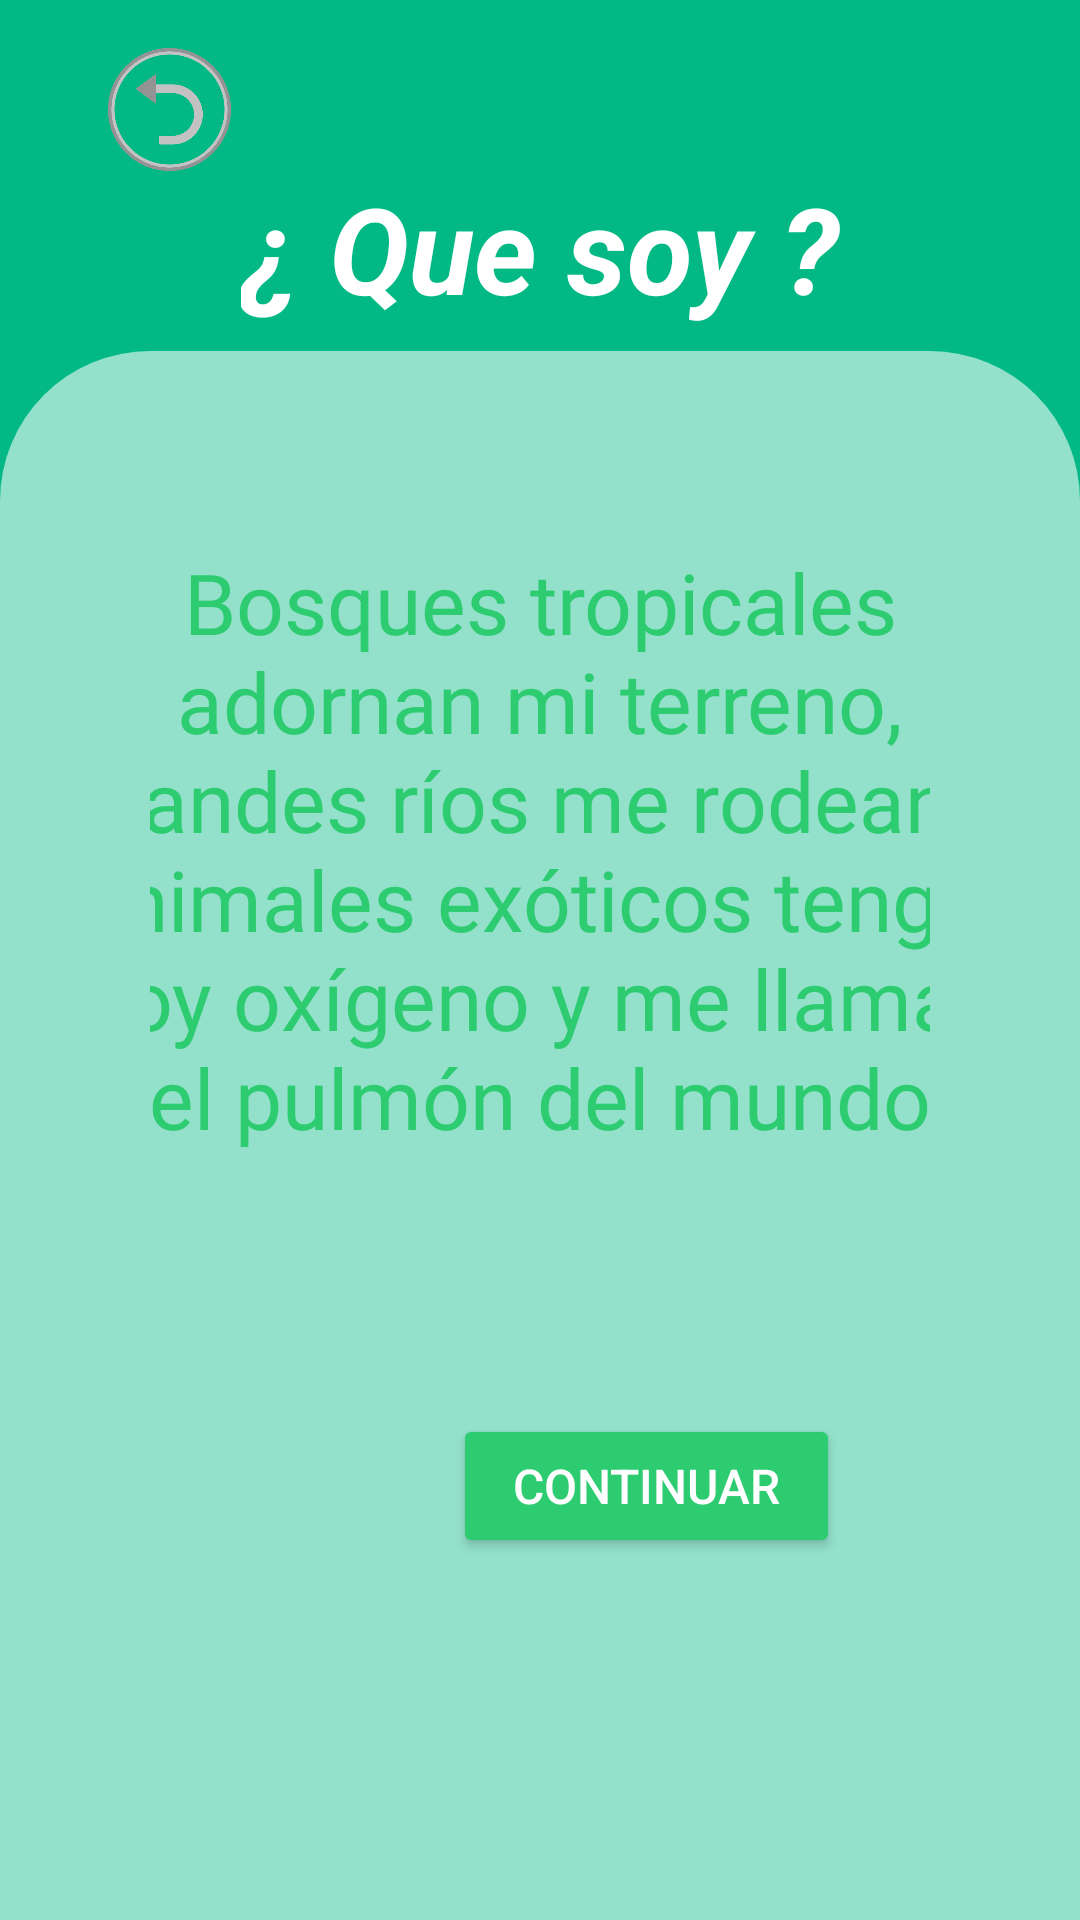

Icons on this 1080w x 1920h Android screen, each with its box as (x1, y1, x2, y2):
volver: (108, 48, 231, 171)
